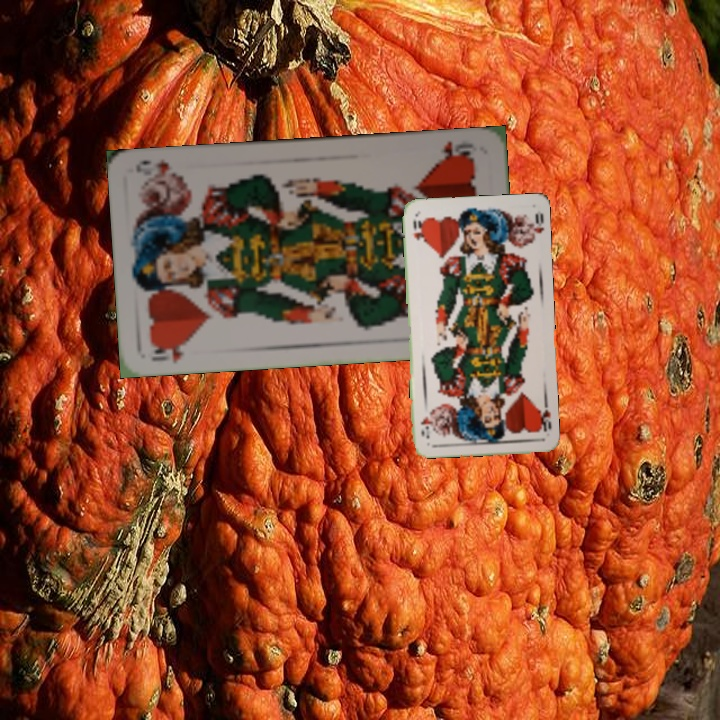HO: (147, 338, 193, 366), (434, 137, 476, 164), (534, 404, 553, 434), (409, 216, 426, 246)
